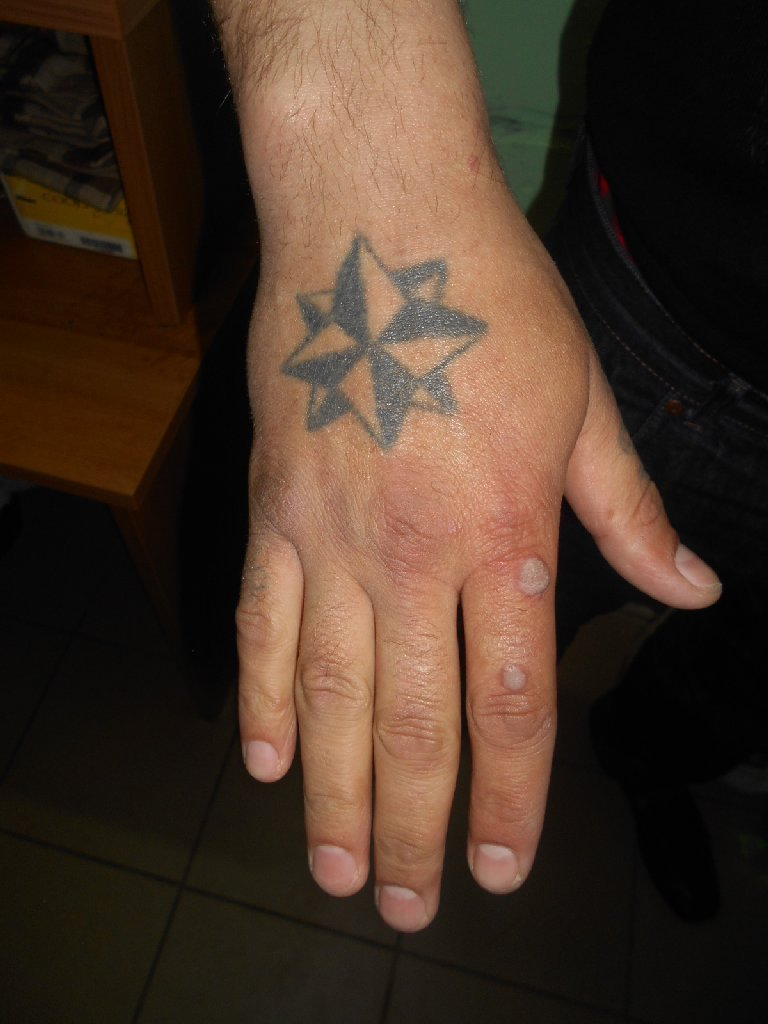tatu4_zvezda: (280, 237, 488, 455)
